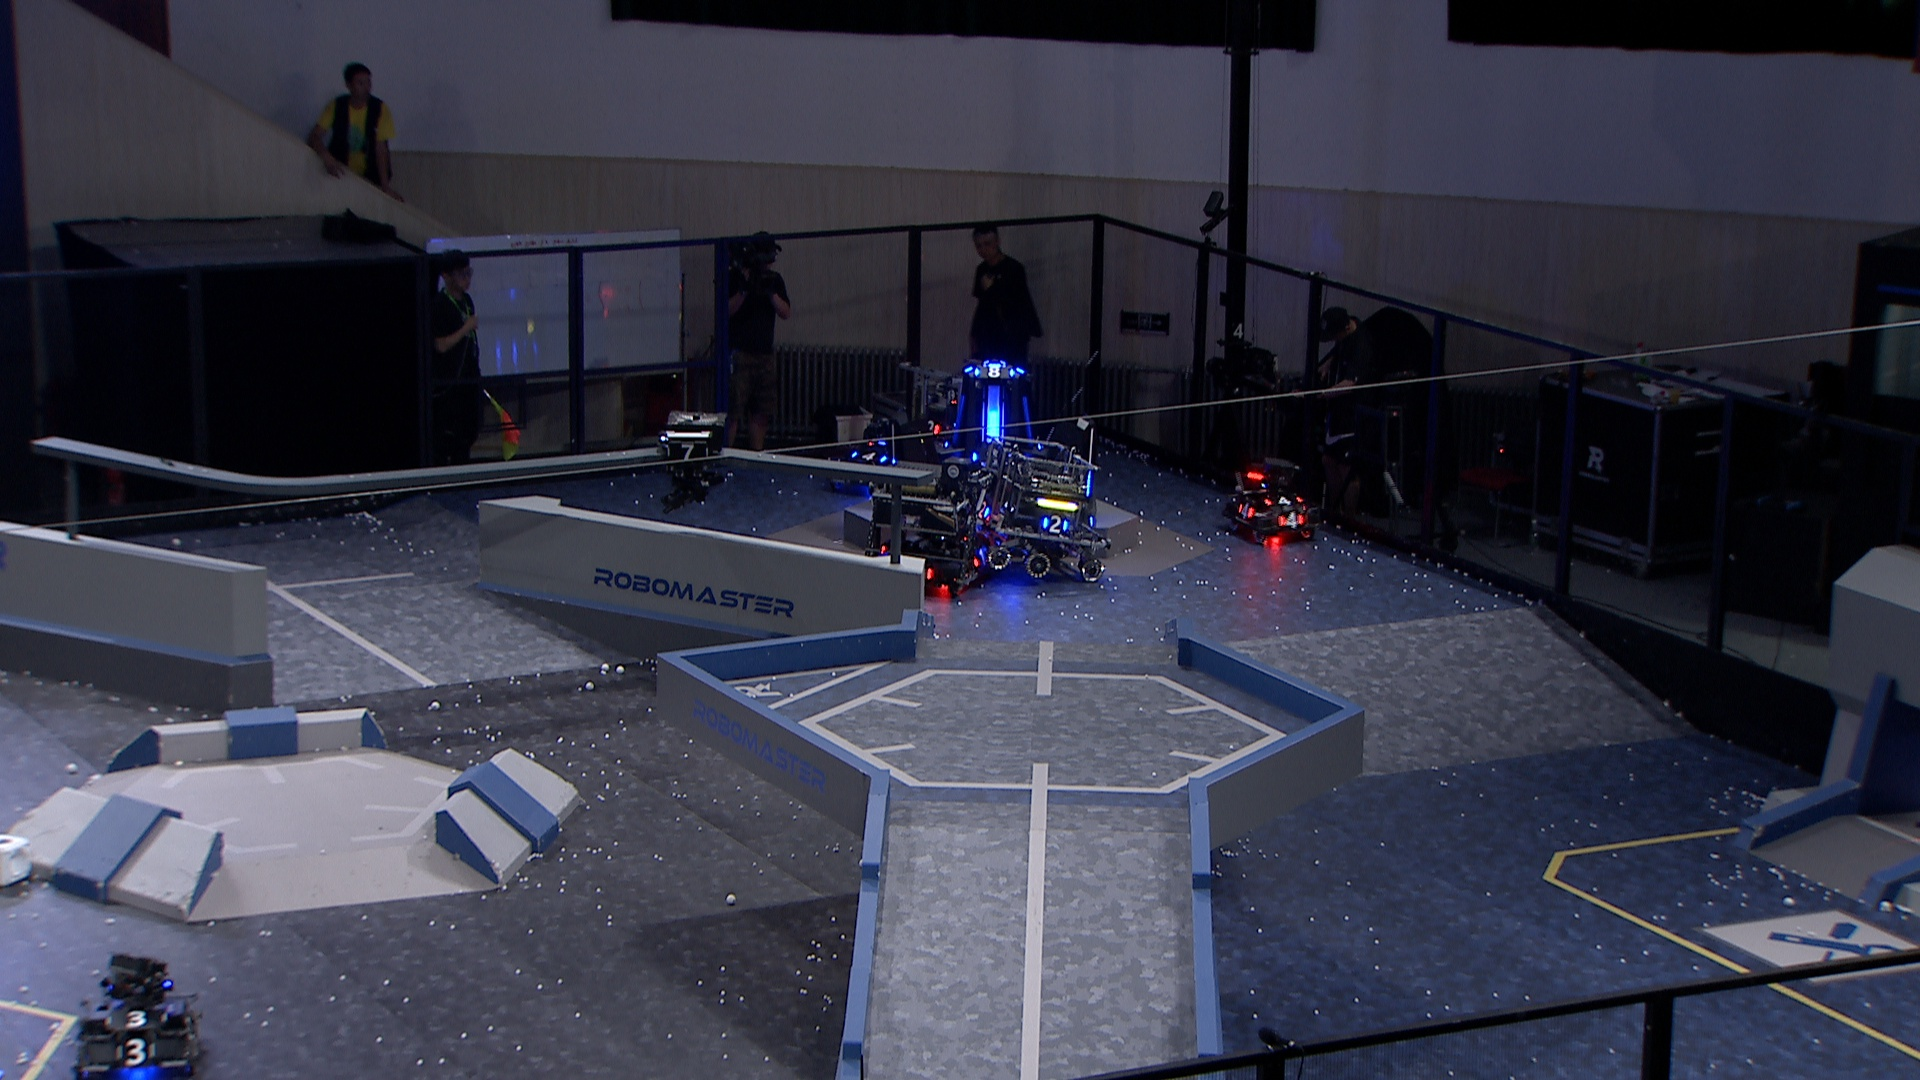armor: (102, 1007, 171, 1029), (116, 1036, 157, 1067), (948, 394, 969, 447), (1019, 394, 1039, 450), (665, 443, 713, 465), (972, 363, 1017, 381), (984, 407, 1005, 444), (847, 447, 891, 463), (969, 542, 993, 571), (1262, 491, 1302, 508), (1275, 509, 1305, 529), (174, 1015, 199, 1039), (1043, 512, 1069, 534), (1236, 498, 1257, 520), (920, 417, 940, 439), (1081, 465, 1095, 498), (973, 498, 992, 520)
base: (884, 352, 1102, 524)
car: (965, 436, 1116, 584), (858, 451, 1001, 589), (71, 945, 204, 1080), (870, 352, 993, 488), (1224, 458, 1321, 547), (818, 415, 905, 496)
watcher: (651, 406, 732, 514)
